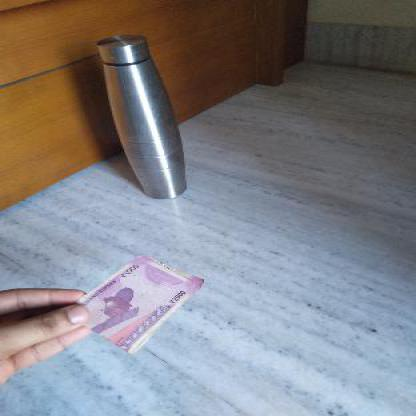New2000Back: (59, 256, 194, 350)
